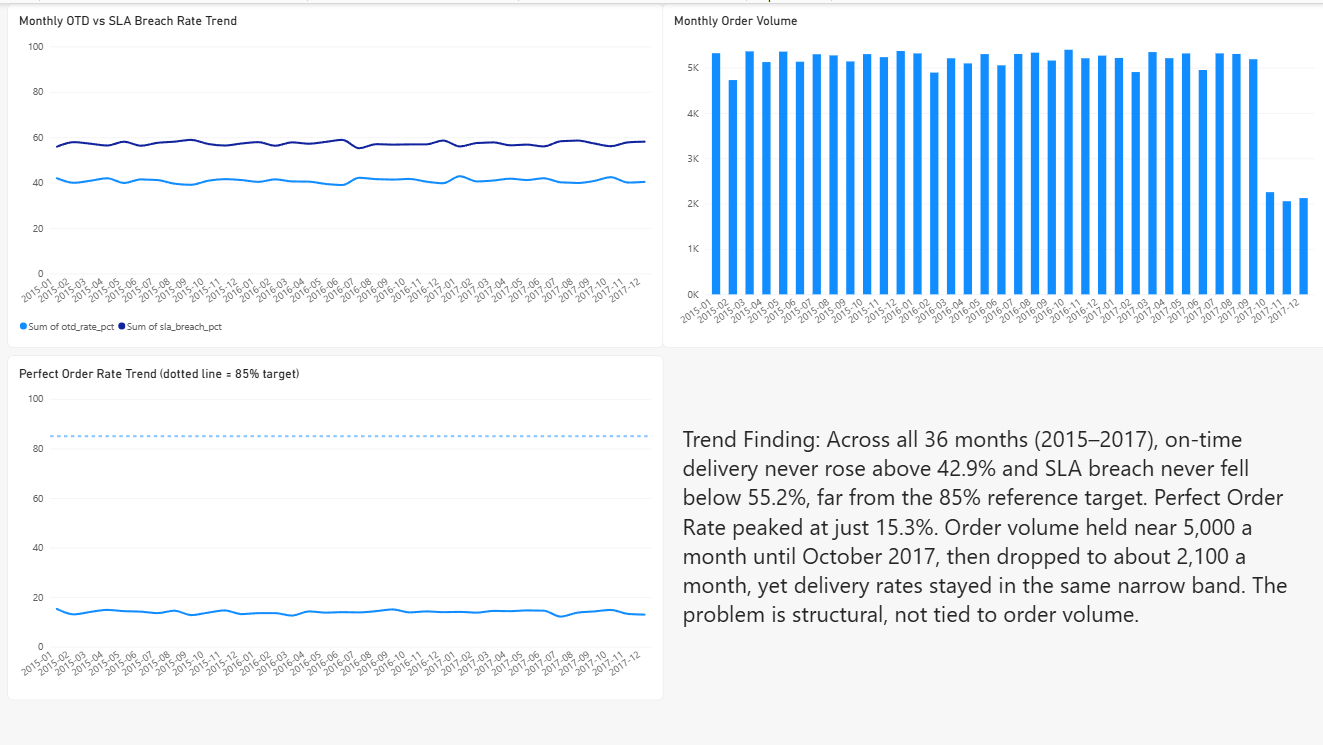

Layout of this report page (visuals, bound fields, positions):
{"tool":"powerbi","page":{"name":"Trend Analysis","canvas":[1920,1080],"ordinal":3},"visuals":[{"type":"lineChart","title":"Monthly OTD vs SLA Breach Rate Trend","fields":{"Category":["supplychaindb vw_monthly_trend.year_month"],"Y":["Sum(supplychaindb vw_monthly_trend.otd_rate_pct)","Sum(supplychaindb vw_monthly_trend.sla_breach_pct)"]},"box":[10,0,949.2,499.6],"z":0},{"type":"clusteredColumnChart","title":"Monthly Order Volume","fields":{"Category":["supplychaindb vw_monthly_trend.year_month"],"Y":["Sum(supplychaindb vw_monthly_trend.total_orders)"]},"box":[959.2,0,961.2,499.6],"z":1000},{"type":"lineChart","title":"Perfect Order Rate Trend (dotted line = 85% target)","fields":{"Category":["supplychaindb vw_monthly_trend.year_month"],"Y":["Sum(supplychaindb vw_monthly_trend.perfect_order_pct)"]},"box":[10,509.6,949.2,499.6],"z":2000},{"type":"textbox","box":[987.2,607.5,901.3,307.7],"z":3000}]}

Visuals, with their boxes in screenshot pixels (x1, y1, x2, y2), scaled from the page's 1920x1080 canvas onto the 1323x745 screenshot:
"Monthly OTD vs SLA Breach Rate Trend" lineChart: {"left": 7, "top": 0, "right": 661, "bottom": 345}
"Monthly Order Volume" clusteredColumnChart: {"left": 661, "top": 0, "right": 1322, "bottom": 345}
"Perfect Order Rate Trend (dotted line = 85% target)" lineChart: {"left": 7, "top": 352, "right": 661, "bottom": 696}
textbox: {"left": 680, "top": 419, "right": 1301, "bottom": 631}
